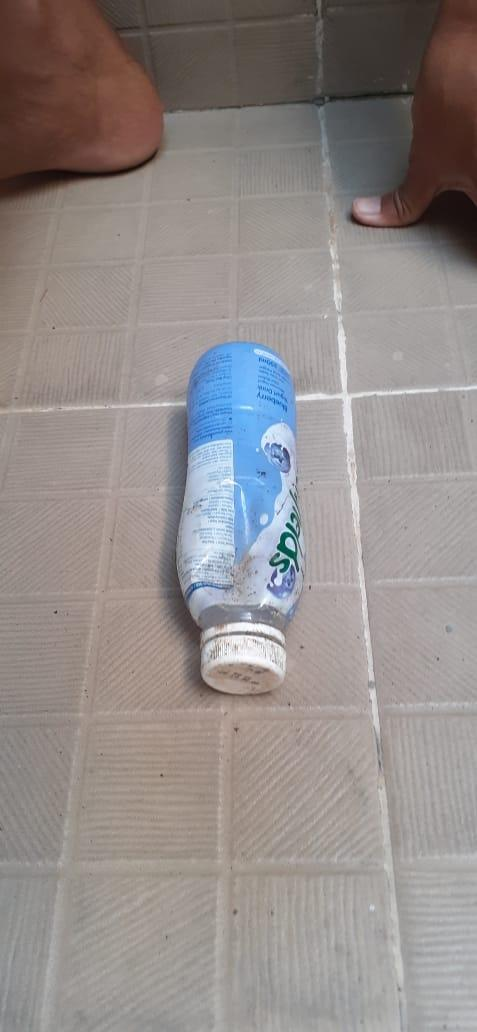Plastik: (175, 341, 309, 698)
